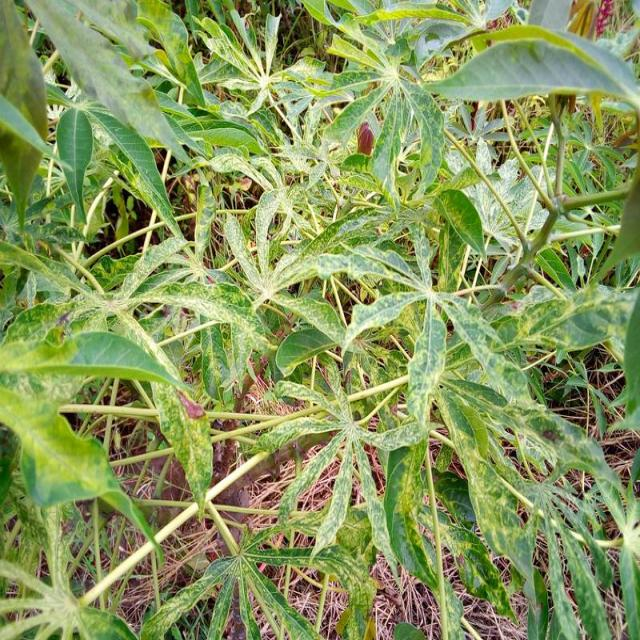cassava leaf: (1, 1, 638, 638), (421, 22, 638, 109)
